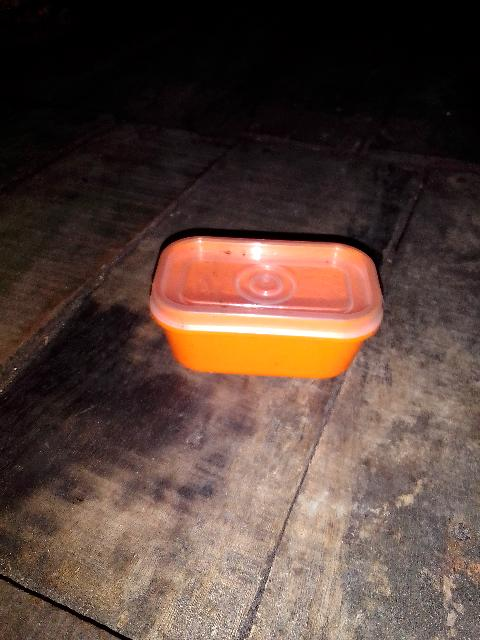hardplastic: (160, 225, 384, 394)
